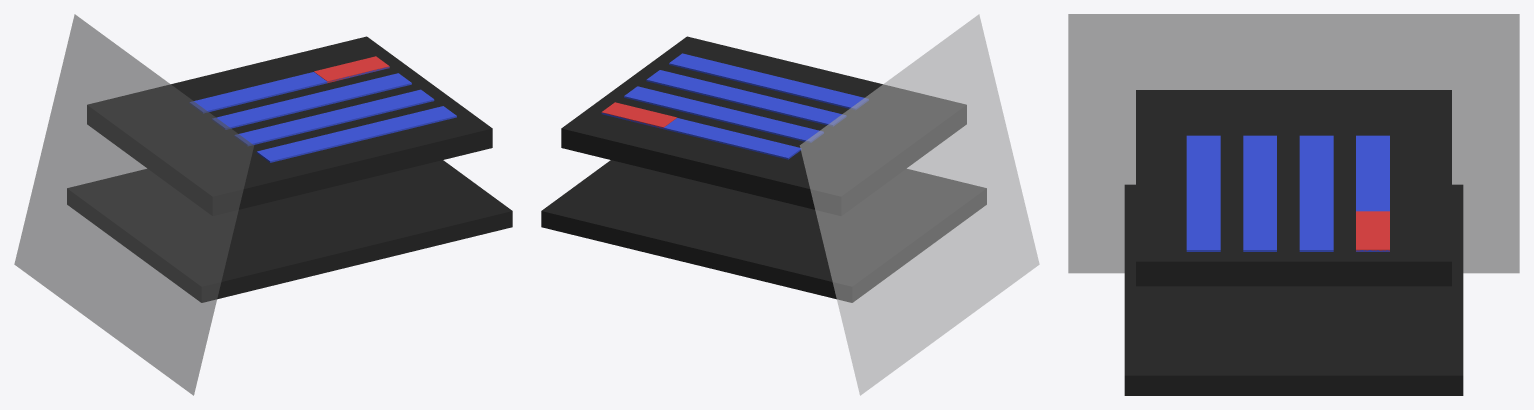
The model's file is hongyang-coal-mine.glb.
3 views of the same model, side by side, from view 1: azimuth 30°, elevation 25°; view 2: azimuth 150°, elevation 25°; view 3: azimuth 270°, elevation 25° (orthographic). The views are drawn at different scales.
Visible parts, largest first — view 1: Fault_Plane, CoalSeam_12, CoalSeam_7, Goaf_704, Goaf_708, Goaf_706, Goaf_710, Remnant_Pillar; view 2: Fault_Plane, CoalSeam_12, CoalSeam_7, Goaf_706, Goaf_704, Goaf_708, Goaf_710, Remnant_Pillar; view 3: Fault_Plane, CoalSeam_7, CoalSeam_12, Goaf_704, Goaf_708, Goaf_706, Goaf_710, Remnant_Pillar.
Part boxes in pixels (left/top/right/bottom): Fault_Plane: left=14, top=14, right=253, bottom=395; CoalSeam_12: left=67, top=160, right=512, bottom=302; CoalSeam_7: left=87, top=36, right=492, bottom=215; Goaf_704: left=256, top=106, right=456, bottom=162; Goaf_708: left=212, top=73, right=411, bottom=129; Goaf_706: left=234, top=89, right=434, bottom=145; Goaf_710: left=189, top=67, right=389, bottom=113; Remnant_Pillar: left=314, top=56, right=389, bottom=83; Fault_Plane: left=800, top=14, right=1039, bottom=395; CoalSeam_12: left=541, top=160, right=986, bottom=302; CoalSeam_7: left=561, top=36, right=966, bottom=215; Goaf_706: left=646, top=70, right=846, bottom=126; Goaf_704: left=669, top=53, right=868, bottom=109; Goaf_708: left=624, top=86, right=823, bottom=142; Goaf_710: left=601, top=112, right=801, bottom=159; Remnant_Pillar: left=601, top=102, right=677, bottom=128; Fault_Plane: left=1068, top=14, right=1519, bottom=273; CoalSeam_7: left=1136, top=90, right=1451, bottom=286; CoalSeam_12: left=1124, top=184, right=1463, bottom=395; Goaf_704: left=1186, top=135, right=1220, bottom=251; Goaf_708: left=1299, top=135, right=1333, bottom=251; Goaf_706: left=1243, top=135, right=1276, bottom=251; Goaf_710: left=1356, top=135, right=1389, bottom=251; Remnant_Pillar: left=1356, top=211, right=1389, bottom=251.
Bounding box in the file's own units: 21.94 × 14.49 × 20.
